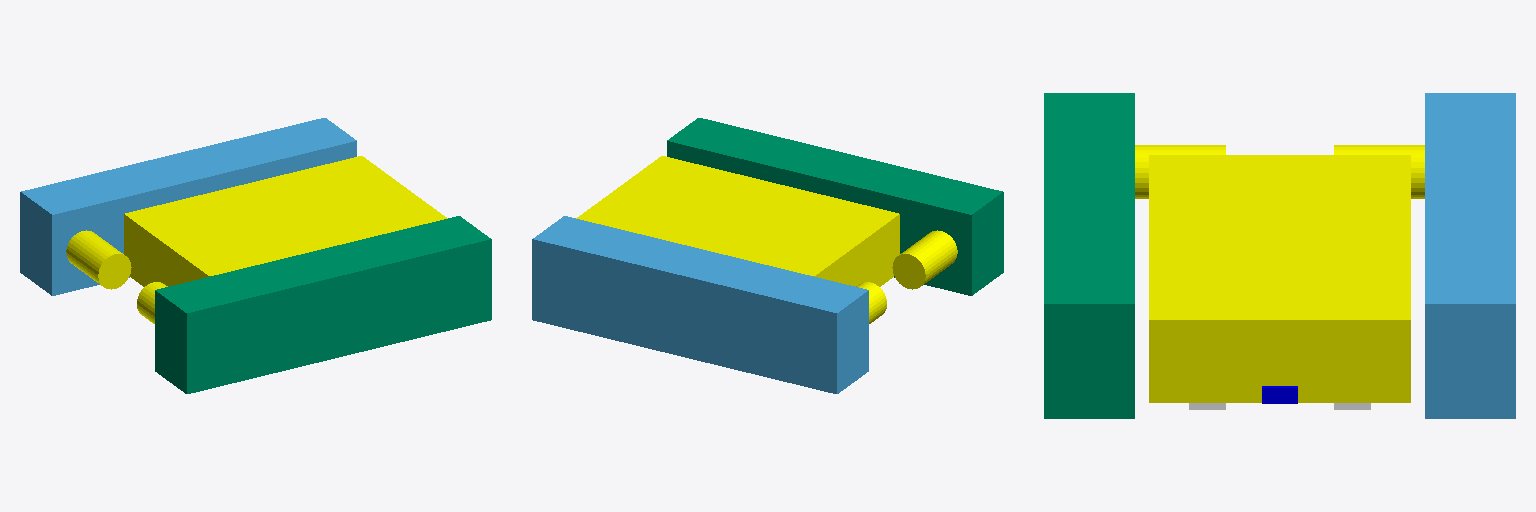
URDF robot description (ARVI):
<?xml version="1.0"?>
<robot name="ARVI">
    <link name="base_link">
        <visual>
            <geometry>
                <box size = "0.215 0.145 0.0505" />
            </geometry>
            <material name="yellow">
                <color rgba="1 1 0 0.5"/>
            </material>
        </visual>
    </link>

  <link name="Left_track_link">
    <visual>
      <geometry>
         <box size = "0.275 0.05 0.07" />
      </geometry>
      <material name="black"/>
    </visual>
  </link>

  <joint name="Left_track" type="fixed">
    <limit effort = "10" lower = "-0.22" upper = "1.15" velocity = "10" />
    <axis xyz="-1 0 0"/>
    <parent link="base_link"/>
    <child link="Left_track_link"/>
    <origin rpy="0 0 0" xyz="-0.03 0.105 0"/>
  </joint>

  <link name="Right_track_link">
    <visual>
      <geometry>
         <box size = "0.275 0.05 0.07" />
      </geometry>
      <material name="black"/>
    </visual>
  </link>

  <joint name="Right_track" type="fixed">
    <limit effort = "10" lower = "-0.22" upper = "1.15" velocity = "10" />
    <axis xyz="1 0 0"/>
    <parent link="base_link"/>
    <child link="Right_track_link"/>
    <origin rpy="0 0 0" xyz="-0.03 -0.105 0"/>
  </joint>

  <link name="base_video_link">
    <visual>
      <geometry>
         <box size = "0.01 0.02 0.01" />
      </geometry>
            <material name="blue">
                <color rgba="0 0 1 1"/>
            </material>
    </visual>
  </link>

  <joint name="base_pan_tilt" type="fixed">
    <axis xyz="1 0 0"/>
    <parent link="base_link"/>
    <child link="base_video_link"/>
    <origin rpy="0 0 0" xyz="0.1 0 -0.02"/>
  </joint>

  <link name="Pan_link">
    <visual>
      <geometry>
         <box size = "0.02 0.02 0.01" />
      </geometry>
            <material name="blue">
                <color rgba="0 0 1 1"/>
            </material>
    </visual>
  </link>

  <joint name="Pan" type="fixed">
    <limit effort = "10" lower = "-1.57" upper = "1.57" velocity = "10" />
    <axis xyz="0 0 -1"/>
    <parent link="base_video_link"/>
    <child link="Pan_link"/>
    <origin rpy="0 0 0" xyz="0.0 0 0.0"/>
  </joint>

  <link name="Tilt_link">
    <visual>
      <geometry>
         <box size = "0.02 0.02 0.01" />
      </geometry>
            <material name="blue">
                <color rgba="0 0 1 1"/>
            </material>
    </visual>
  </link>

  <joint name="Tilt" type="revolute">
    <limit effort = "10" lower = "-1.57" upper = "1.57" velocity = "10" />
    <axis xyz="0 -1 0"/>
    <parent link="Pan_link"/>
    <child link="Tilt_link"/>
    <origin rpy="0 0 0" xyz="0.0 0 0.0"/>
  </joint>

  <link name="Left_wheel">
    <visual>
      <geometry>
        <cylinder length=".05" radius="0.015"/>
      </geometry>
            <material name="yellow_full">
                <color rgba="1 1 0 1"/>
            </material>
    </visual>
  </link>

  <joint name="Left" type="continuous">
    <axis xyz="0 0 1"/>
    <parent link="Left_track_link"/>
    <child link="Left_wheel"/>
    <origin rpy="1.57075 0 0" xyz="-0.11 -0.05 0"/>
    <limit effort="100" velocity="100"/>
    <joint_properties damping="0.0" friction="0.0"/>
  </joint>
  
  <link name="Right_wheel">
    <visual>
      <geometry>
        <cylinder length=".05" radius="0.015"/>
      </geometry>
            <material name="yellow_full">
                <color rgba="1 1 0 1"/>
            </material>
    </visual>
  </link>

  <joint name="Right" type="continuous">
    <axis xyz="0 0 1"/>
    <parent link="Right_track_link"/>
    <child link="Right_wheel"/>
    <origin rpy="1.57075 0 0" xyz="-0.11 0.05 0"/>
    <limit effort="100" velocity="100"/>
    <joint_properties damping="0.0" friction="0.0"/>
  </joint>

  <link name="Left_shovel_link">
    <visual>
      <geometry>
        <box size = "0.09 0.02 0.01" />
      </geometry>
            <material name="white">
                <color rgba="1 1 1 1"/>
            </material>
    </visual>
  </link>

  <joint name="Left_shovel" type="revolute">
    <limit effort = "10" lower = "-1.57" upper = "1.57" velocity = "10" />
    <axis xyz="-1 0 0"/>
    <parent link="base_link"/>
    <child link="Left_shovel_link"/>
    <origin rpy="0 0 0" xyz="0.04 0.04 -0.035"/>
  </joint>

  <link name="Right_shovel_link">
    <visual>
      <geometry>
        <box size = "0.09 0.02 0.01" />
      </geometry>
            <material name="white">
                <color rgba="1 1 1 1"/>
            </material>
    </visual>
  </link>

  <joint name="Right_shovel" type="revolute">
    <limit effort = "10" lower = "-1.57" upper = "1.57" velocity = "10" />
    <axis xyz="-1 0 0"/>
    <parent link="base_link"/>
    <child link="Right_shovel_link"/>
    <origin rpy="0 0 0" xyz="0.04 -0.04 -0.035"/>
  </joint>

</robot>

--- Facts derived from the render (not from the file) ---
Views: 3 orthographic renders of the robot side by side, from view 1: azimuth 30°, elevation 25°; view 2: azimuth 150°, elevation 25°; view 3: azimuth 270°, elevation 25°.
Model ARVI with 10 links and 9 joints (3 revolute, 2 continuous, 4 fixed), rooted at base_link, posed all joints at 0.
Links seen in each view (by area): view 1: Right_track_link, base_link, Left_track_link, Left_wheel, Right_wheel; view 2: Left_track_link, base_link, Right_track_link, Right_wheel, Left_wheel; view 3: base_link, Left_track_link, Right_track_link, Left_wheel, Right_wheel, Pan_link.
Boxes of the visible links, left/top/right/bottom form: Right_track_link: left=155, top=216, right=491, bottom=393; base_link: left=124, top=156, right=447, bottom=286; Left_track_link: left=20, top=118, right=356, bottom=295; Left_wheel: left=66, top=230, right=131, bottom=289; Right_wheel: left=137, top=282, right=167, bottom=323; Left_track_link: left=532, top=216, right=868, bottom=393; base_link: left=576, top=156, right=899, bottom=286; Right_track_link: left=667, top=118, right=1003, bottom=295; Right_wheel: left=892, top=230, right=957, bottom=289; Left_wheel: left=856, top=282, right=886, bottom=323; base_link: left=1149, top=155, right=1410, bottom=402; Left_track_link: left=1425, top=93, right=1515, bottom=418; Right_track_link: left=1044, top=93, right=1134, bottom=418; Left_wheel: left=1334, top=145, right=1424, bottom=198; Right_wheel: left=1135, top=145, right=1225, bottom=198; Pan_link: left=1262, top=386, right=1297, bottom=403.
Size in the robot's own frame: 0.2775 by 0.26 by 0.075 metres.
Geometry: primitives only (box / cylinder / sphere), no mesh files.
